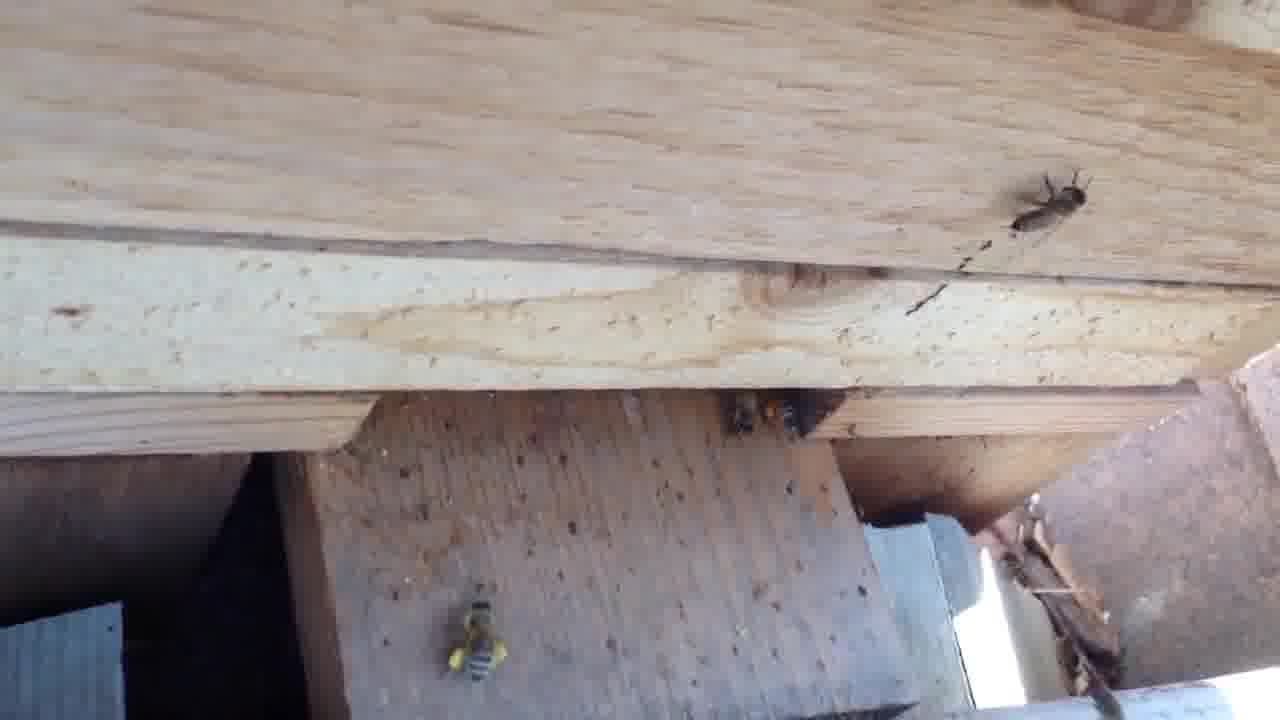pollen: (441, 593, 518, 683)
